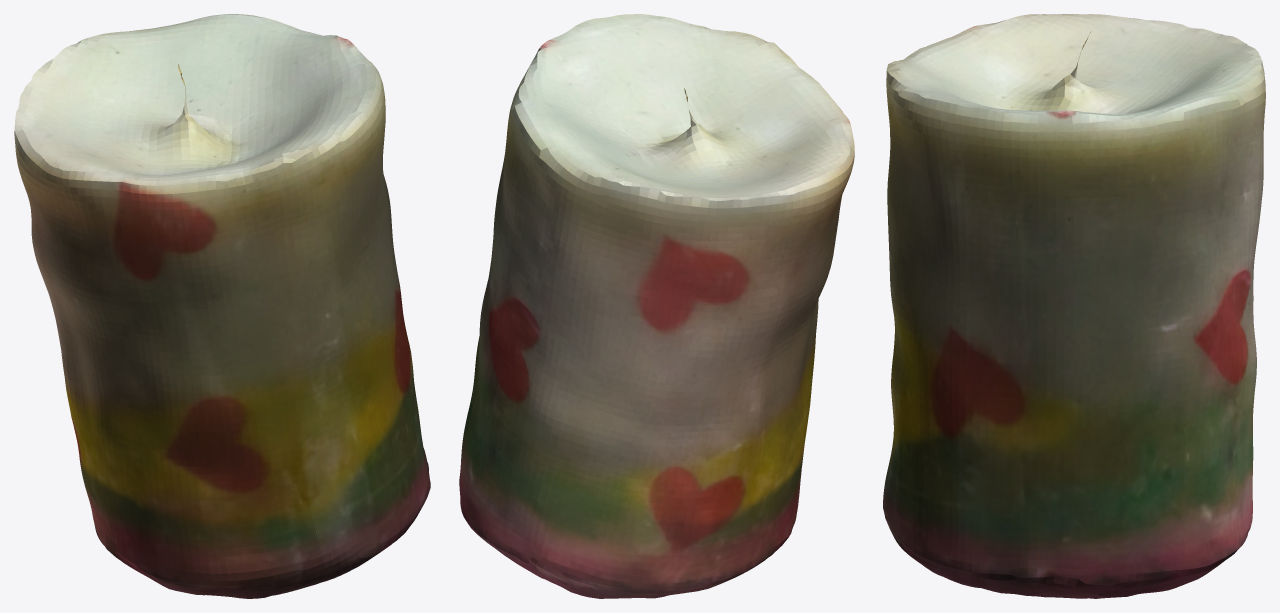
The model's file is candle.glb.
3 renders of one model, left to right at view 1: azimuth 30°, elevation 25°; view 2: azimuth 150°, elevation 25°; view 3: azimuth 270°, elevation 25°, orthographic. The views are drawn at different scales.
Visible parts, largest first — view 1: 3DModel_Custom; view 2: 3DModel_Custom; view 3: 3DModel_Custom.
Part boxes in pixels (left/top/right/bottom): 3DModel_Custom: left=14, top=14, right=430, bottom=598; 3DModel_Custom: left=459, top=14, right=854, bottom=598; 3DModel_Custom: left=883, top=14, right=1265, bottom=598.
Bounding box in the file's own units: 0.1314 × 0.17 × 0.1138.
1 material, 1 textured.
